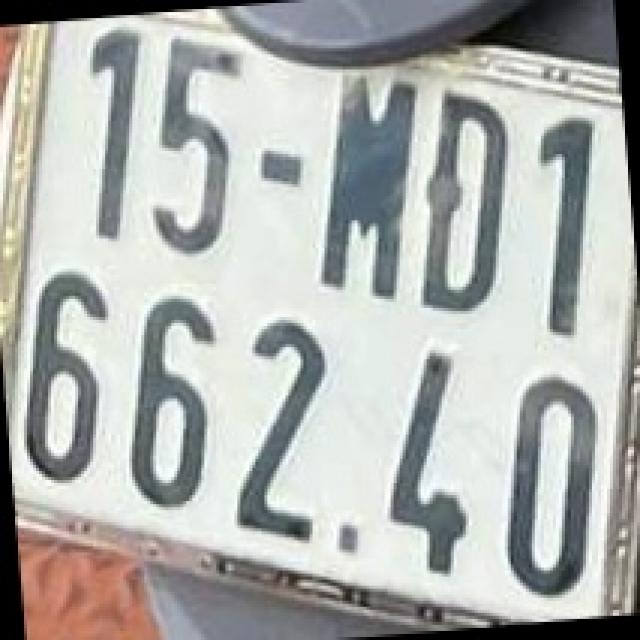0: (499, 365, 604, 598)
1: (529, 109, 604, 338), (81, 24, 147, 245)
2: (232, 311, 328, 546)
4: (382, 341, 478, 580)
5: (150, 33, 244, 254)
6: (126, 290, 216, 510), (24, 266, 108, 489)
D: (418, 87, 514, 311)
M: (312, 72, 420, 299)
